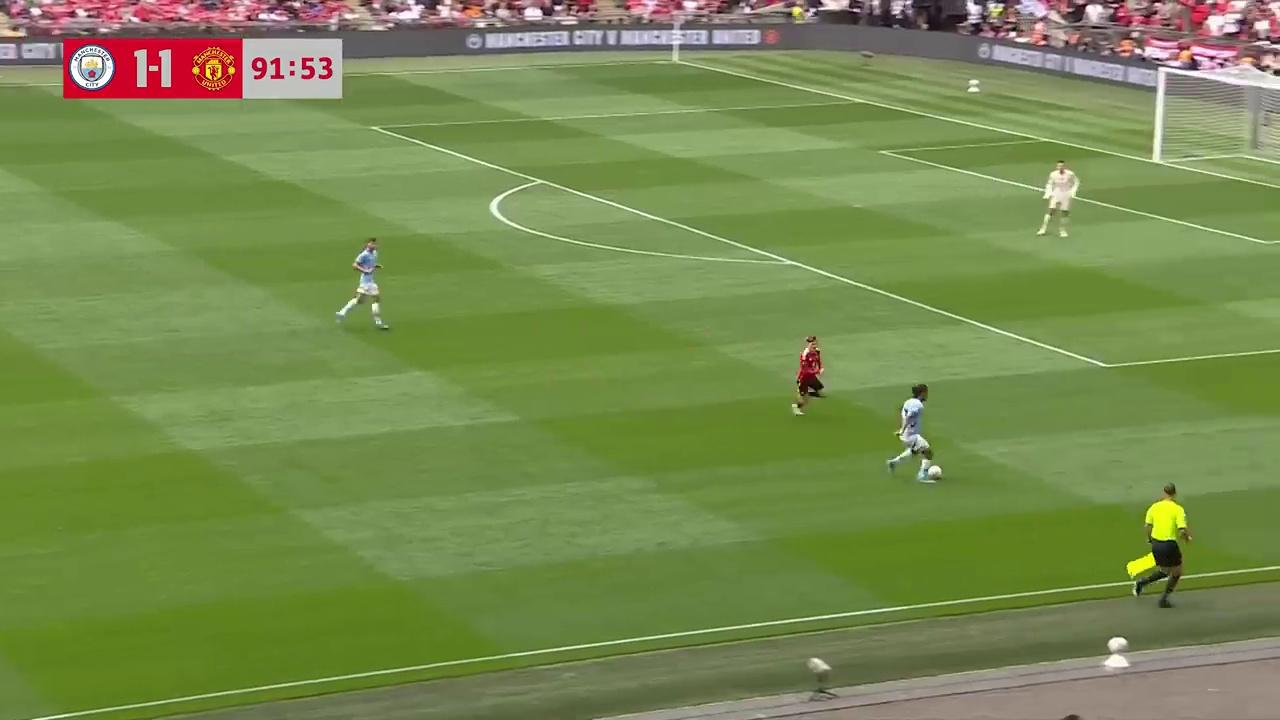ball: (927, 462, 942, 482)
player: (885, 384, 943, 482), (334, 237, 392, 331), (1036, 161, 1077, 237), (791, 335, 826, 416)
referee: (1128, 482, 1192, 608)
